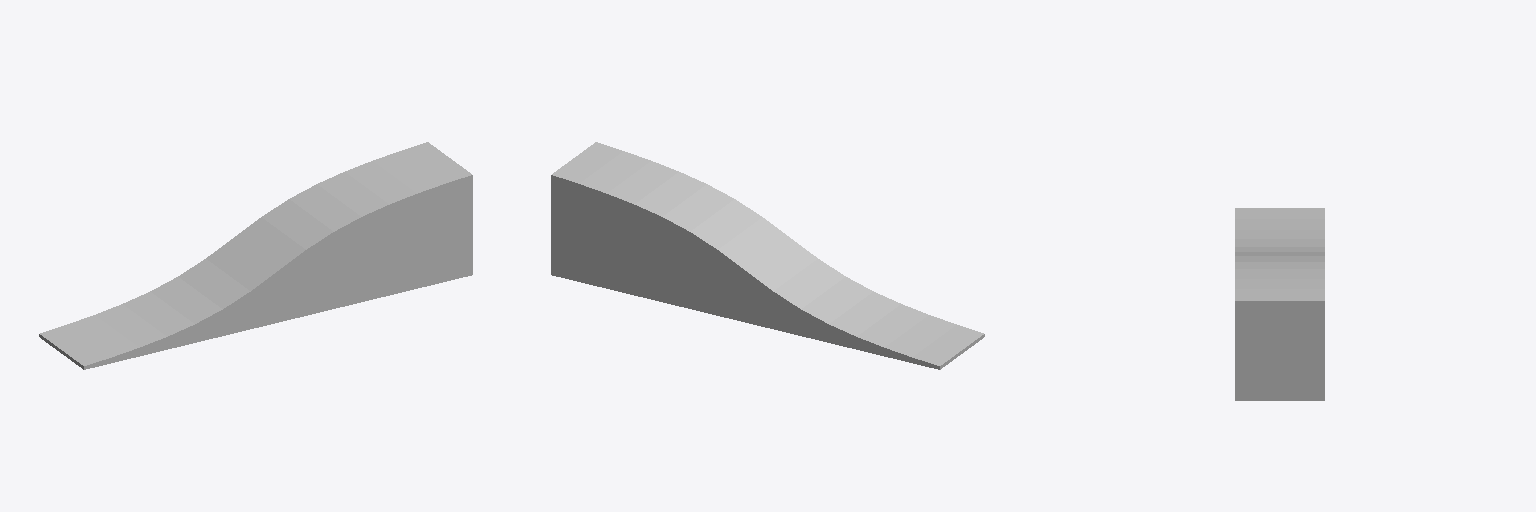
Rendered from atantile.obj.
3 renders of one model, left to right at view 1: azimuth 30°, elevation 25°; view 2: azimuth 150°, elevation 25°; view 3: azimuth 270°, elevation 25°, orthographic.
Visible parts, largest first — view 1: Z_Function; view 2: Z_Function; view 3: Z_Function.
Boxes of the visible parts, box(x1,y1,x2,y2) form: Z_Function: box(39, 142, 472, 369); Z_Function: box(551, 142, 984, 369); Z_Function: box(1235, 208, 1324, 400).
Bounding box in the file's own units: 10 × 2.47 × 2.